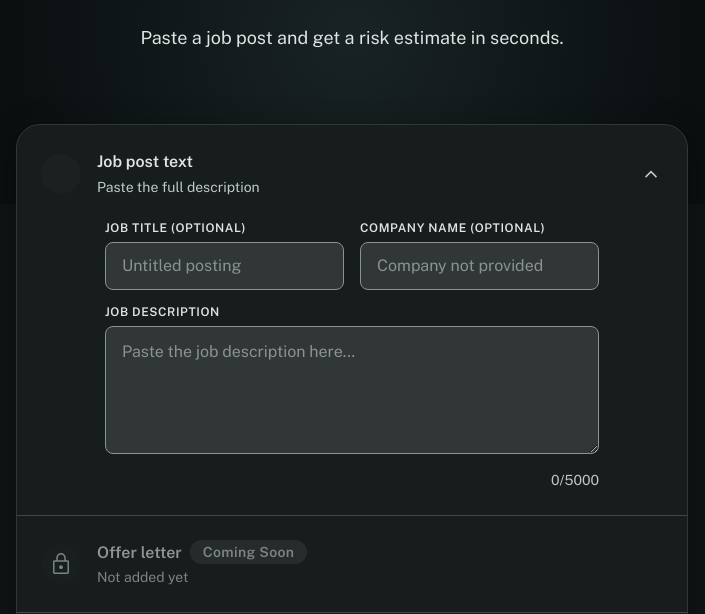
Test: VerifyClient › blocks submission if text is under 100 characters
The width and height of the screenshot is (705, 614).
Type "Too short" into the text box labelled "Job Description" at (352, 390), box [105,326,599,454]
(page scrolled)
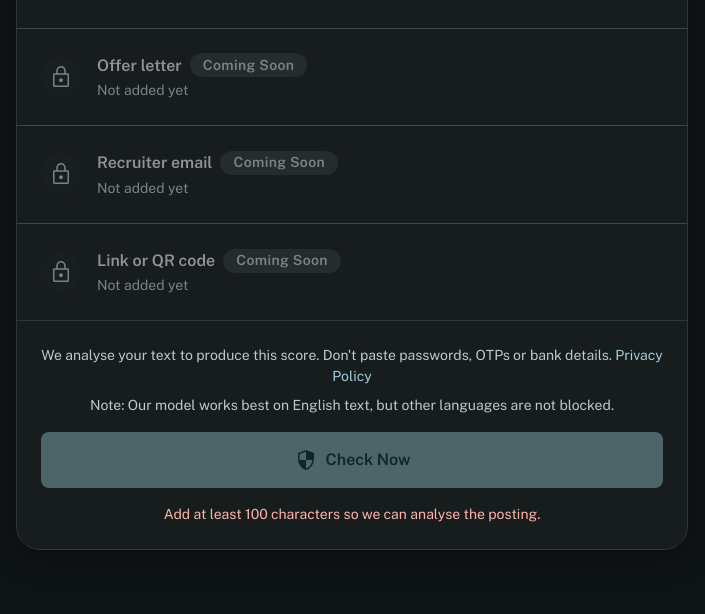
Expected: the button "Check Now" is disabled, [41,432,663,488]
Expected: the text "Add at least 100 characters so we can analyse the posting." is shown, [164,506,540,522]
